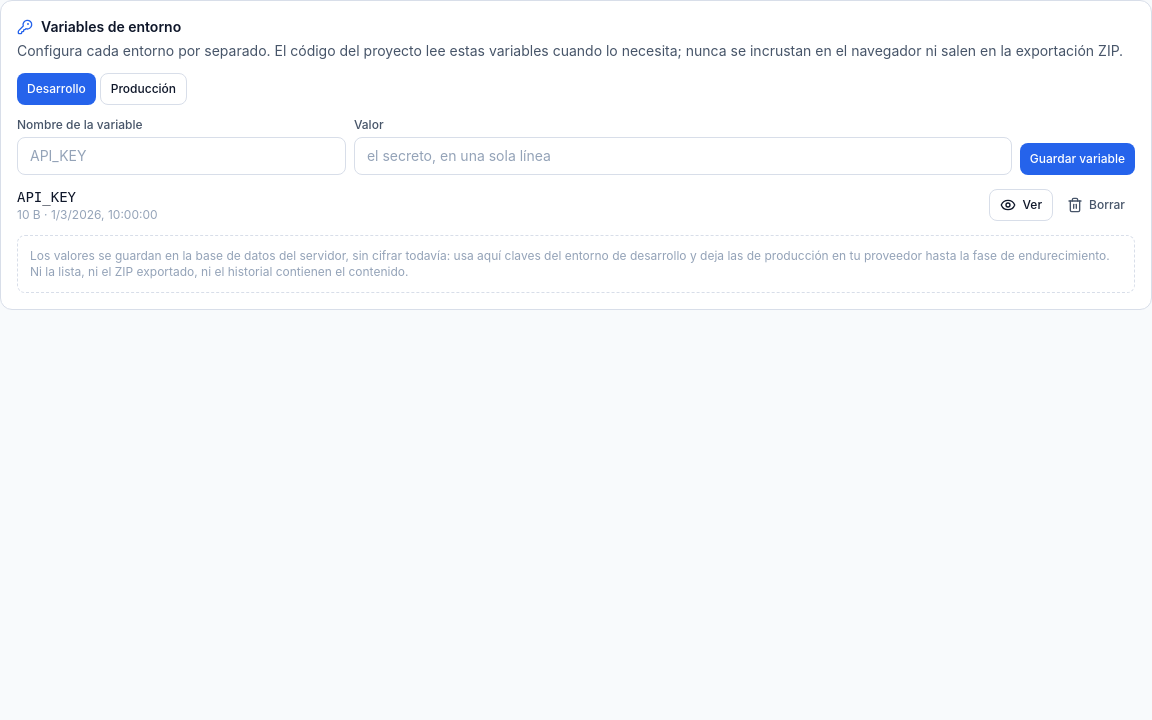
Test case: ProjectEnv › borrar pide confirmación antes de enviar nada
Step 1. Click the button with aria-label "Borrar API_KEY" → [1096, 205], box [1057,189,1135,221]
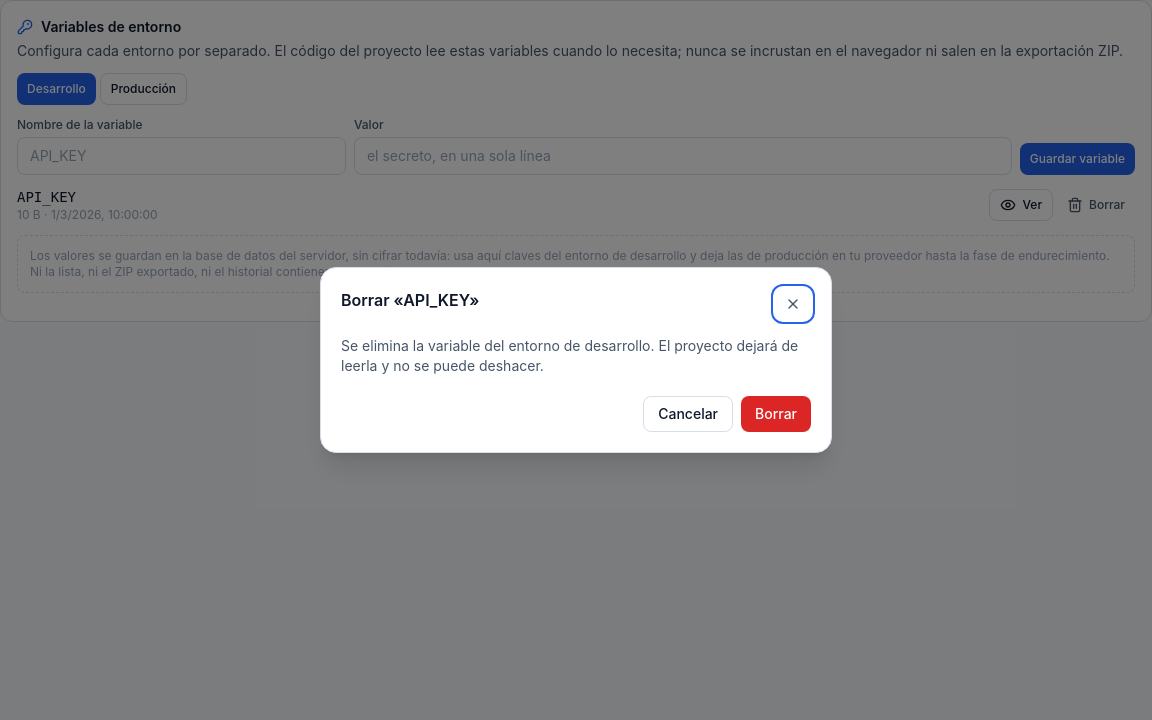
Step 2. Click the button "Borrar" → [776, 414], box [741,396,811,432]
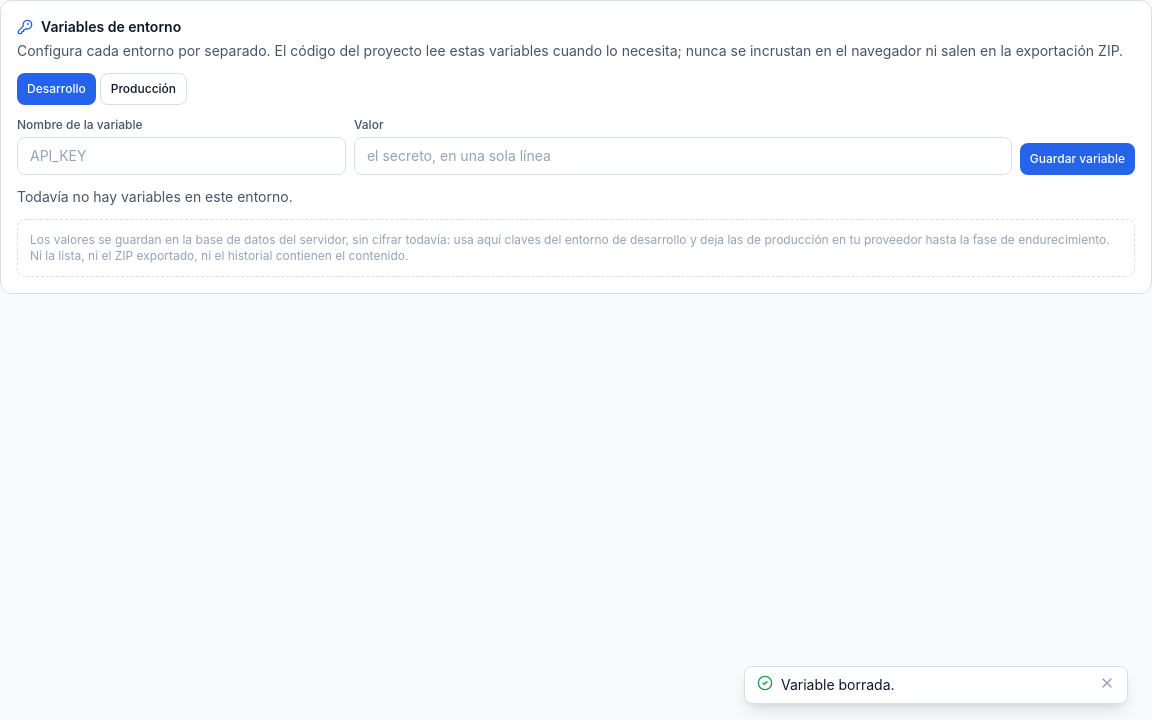
Result: the text "Variable borrada." is shown at [781,676,895,693]
